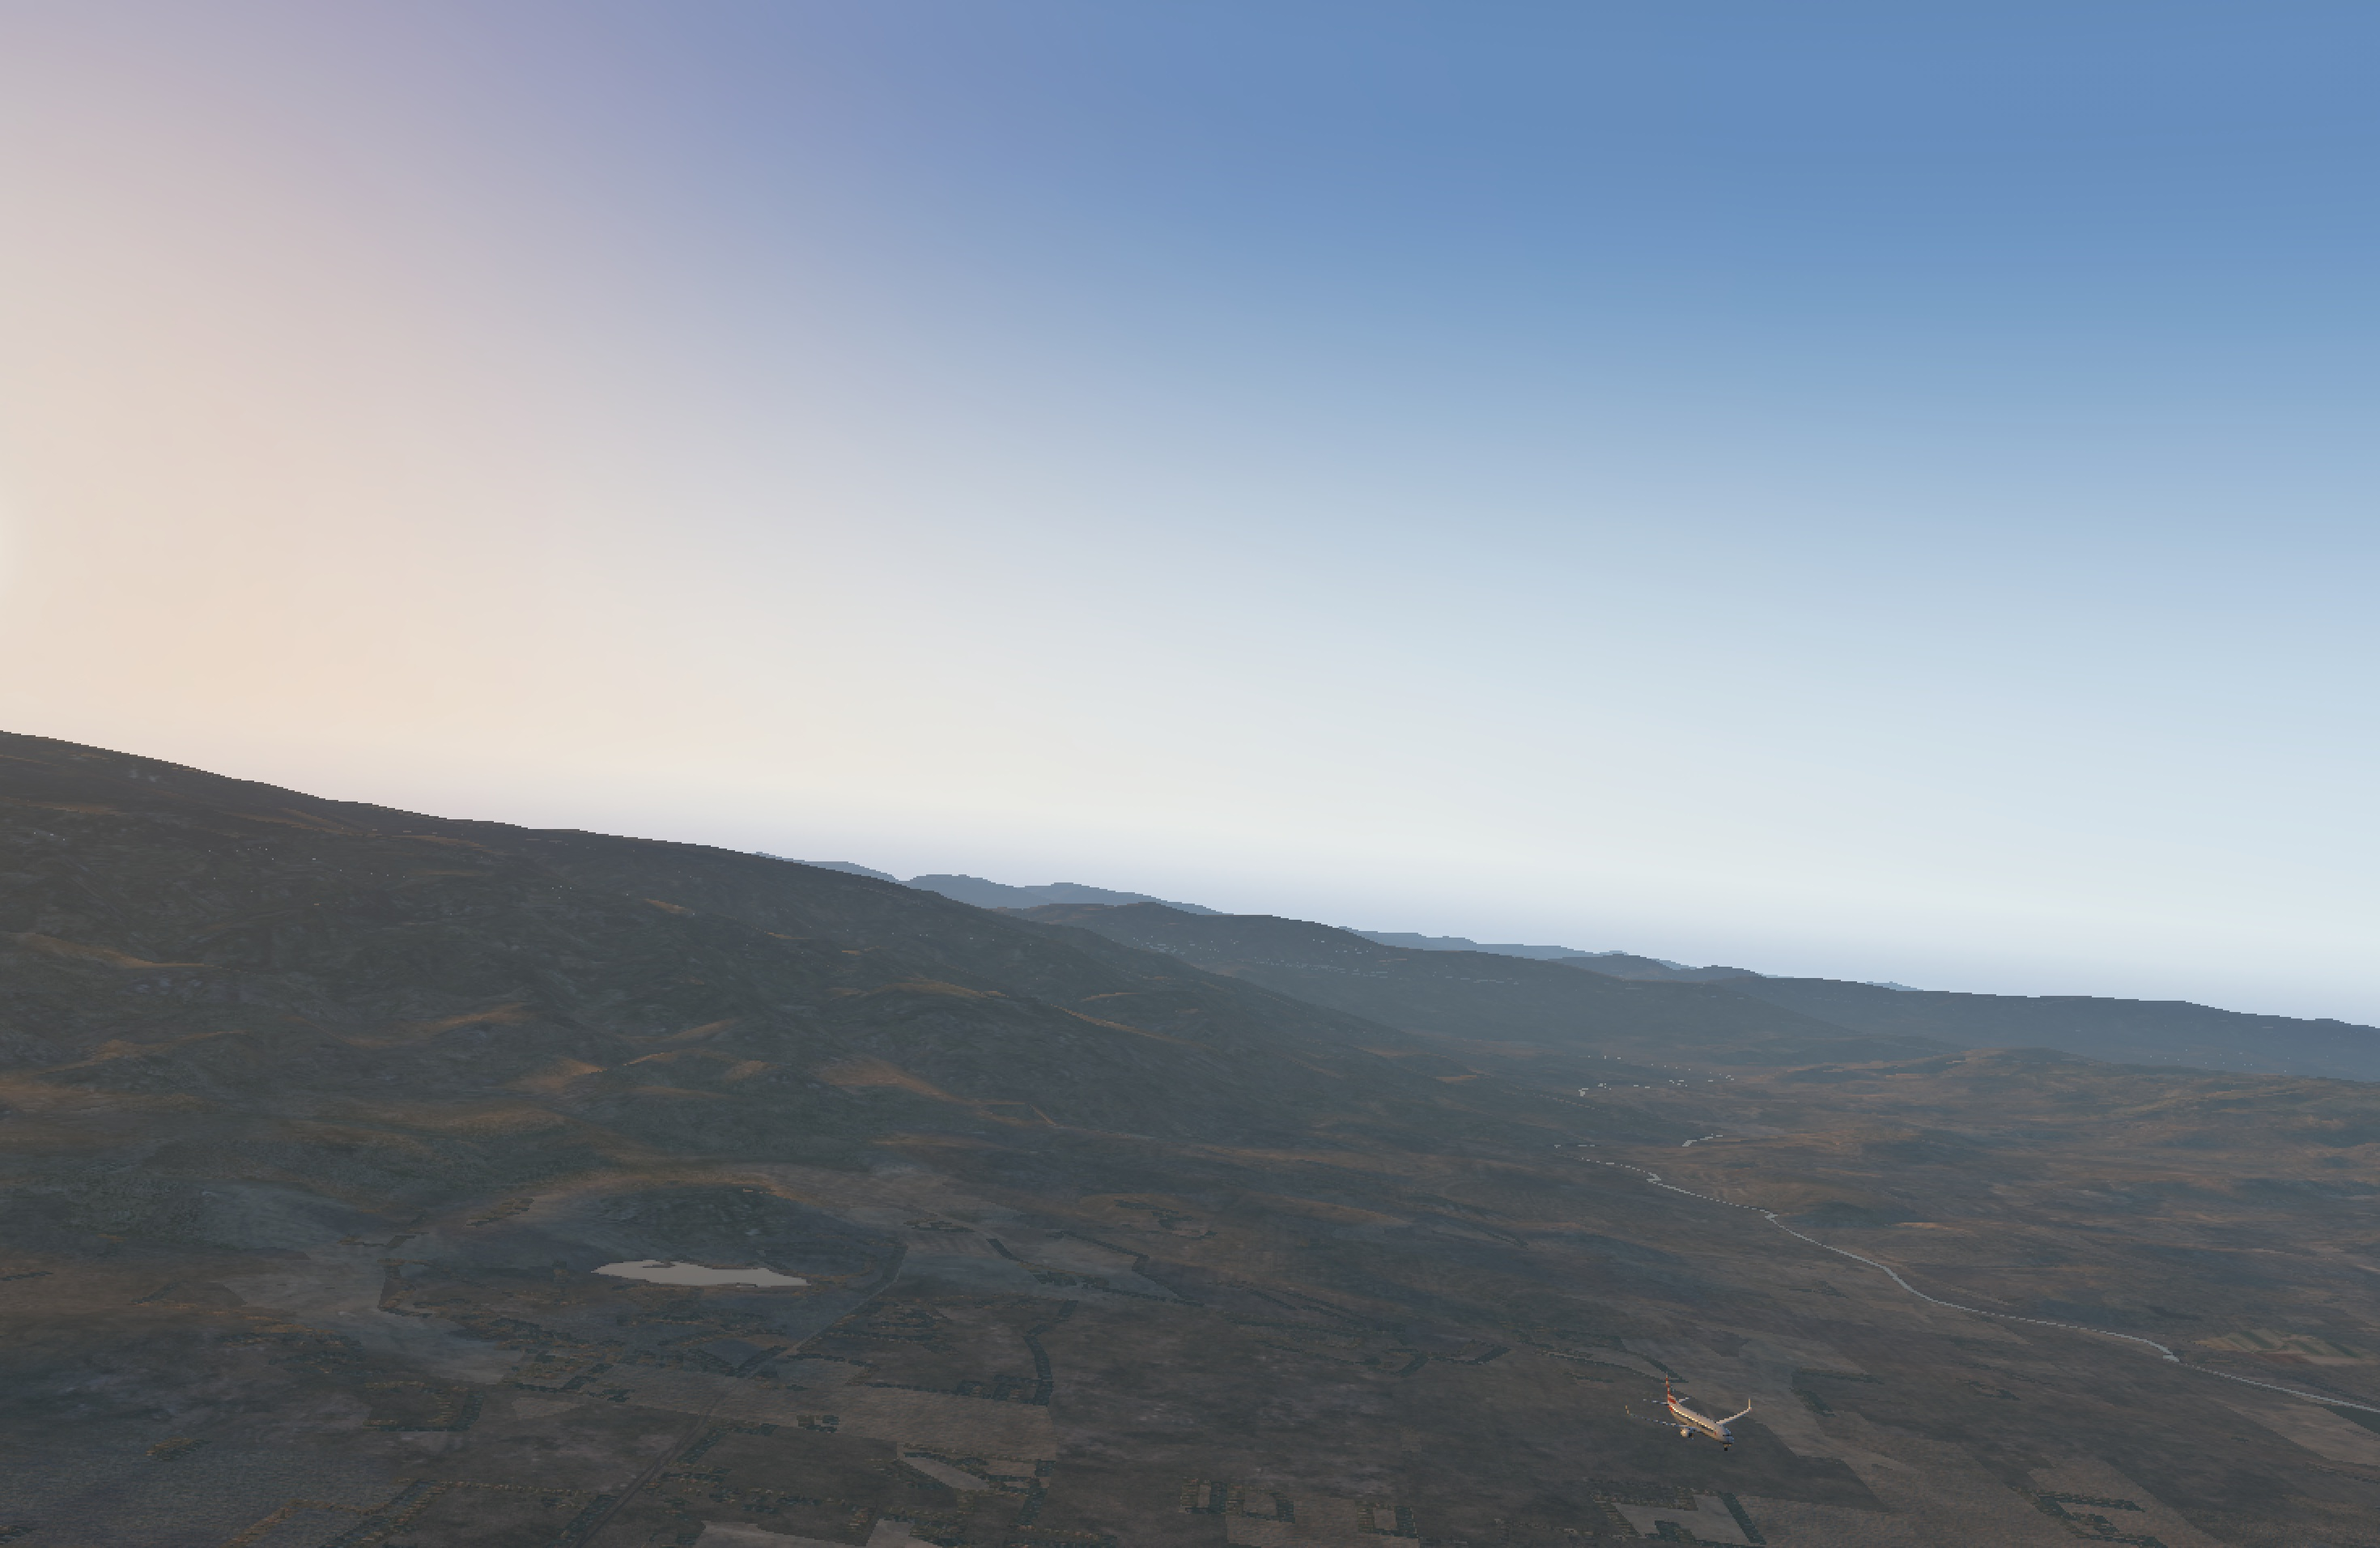aircraft: (1629, 1399, 1771, 1453)
